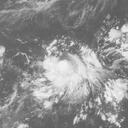cyclone: (39, 43, 98, 99)
